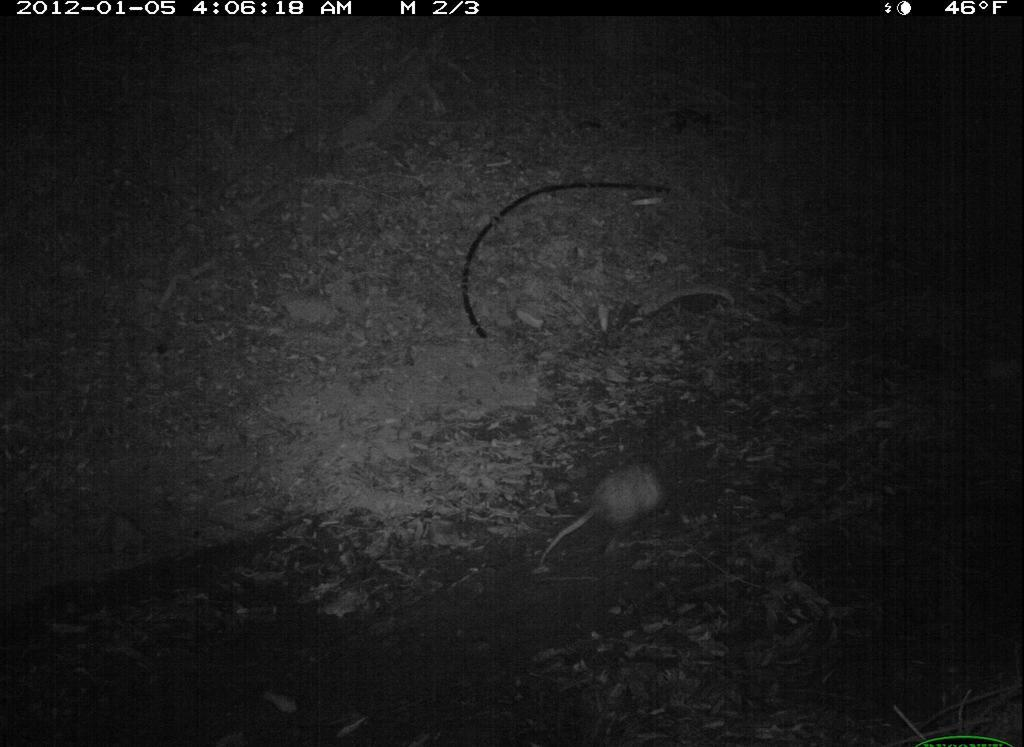opossum: (527, 454, 675, 577)
